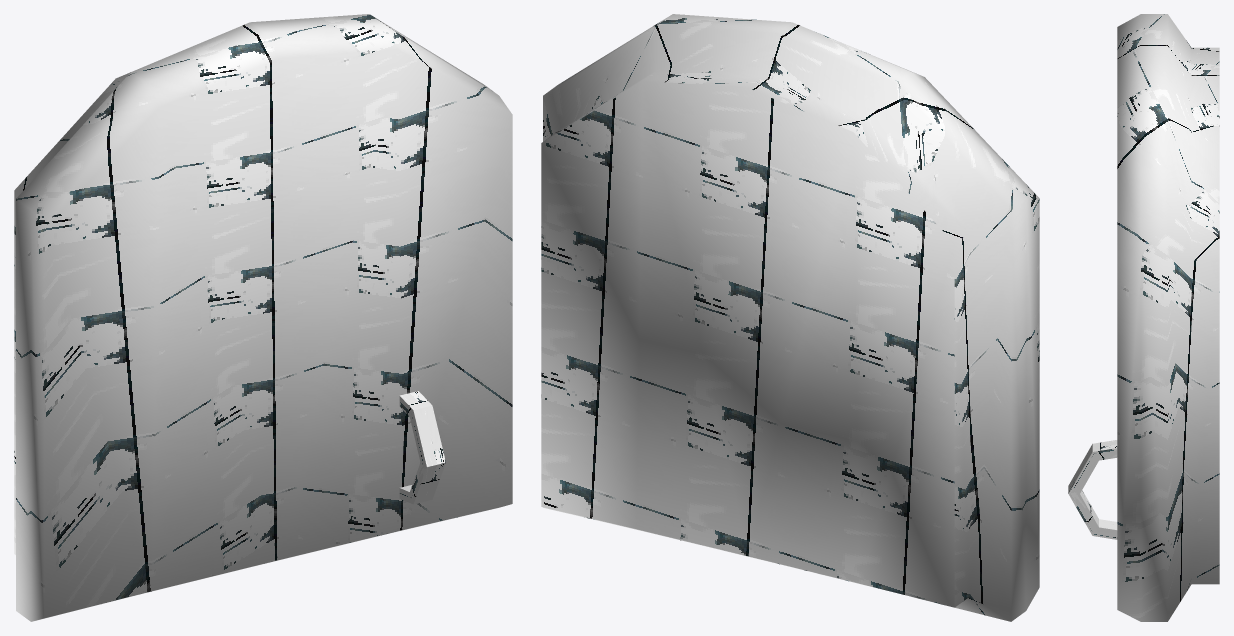
The model's file is FridgeDoorTop.FBX.
The picture shows the model from 3 angles, left to right: view 1: azimuth 30°, elevation 25°; view 2: azimuth 150°, elevation 25°; view 3: azimuth 270°, elevation 25°; orthographic projection. The views are drawn at different scales.
Visible parts, largest first — view 1: FridgeDoorTop; view 2: FridgeDoorTop; view 3: FridgeDoorTop.
Part boxes in pixels (x1,y1,x2,y2): FridgeDoorTop: (14,14,512,621); FridgeDoorTop: (541,14,1039,621); FridgeDoorTop: (1068,14,1219,621).
Bounding box in the file's own units: 1.6 × 0.5037 × 1.74.
1 material, 1 textured.
